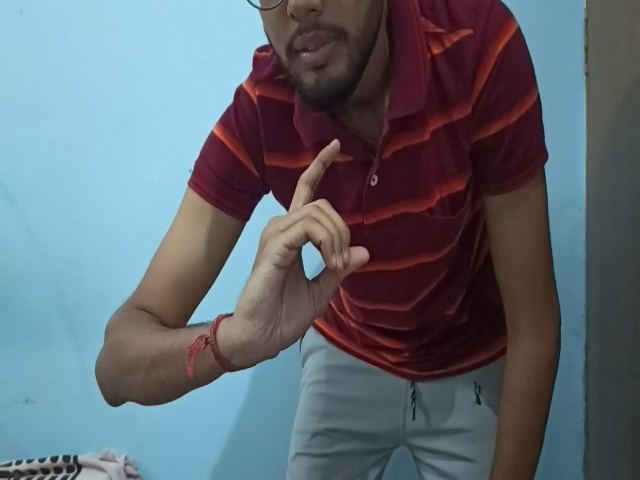D: (235, 138, 371, 365)
